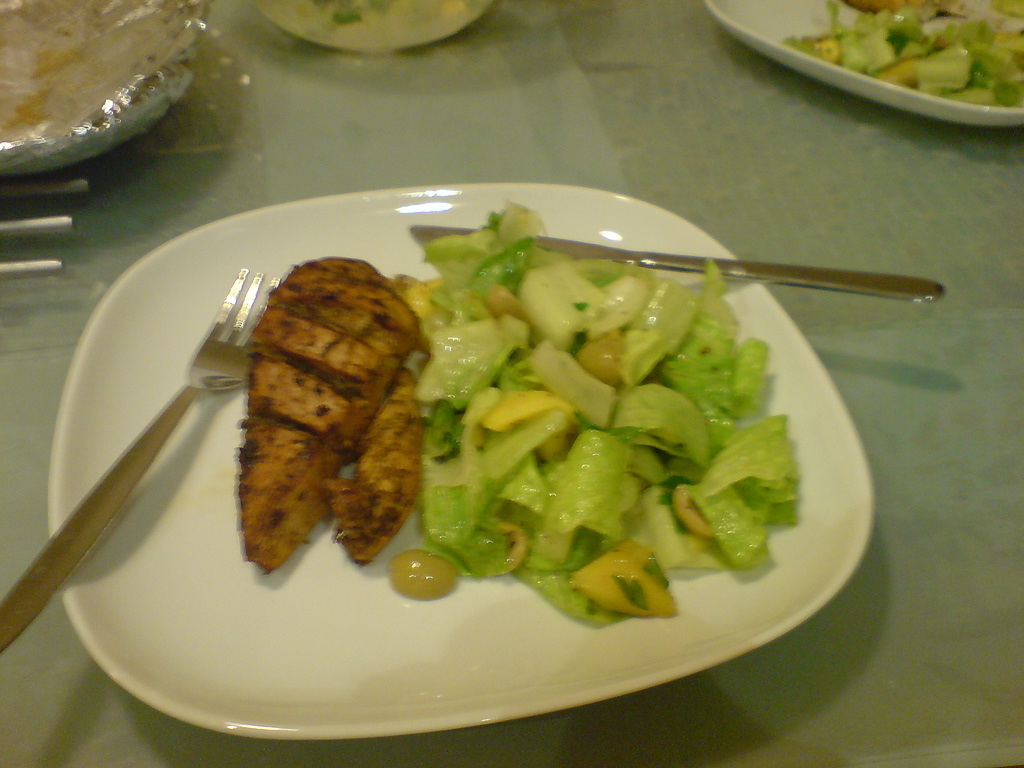chopped lettuce: (481, 338, 668, 581)
